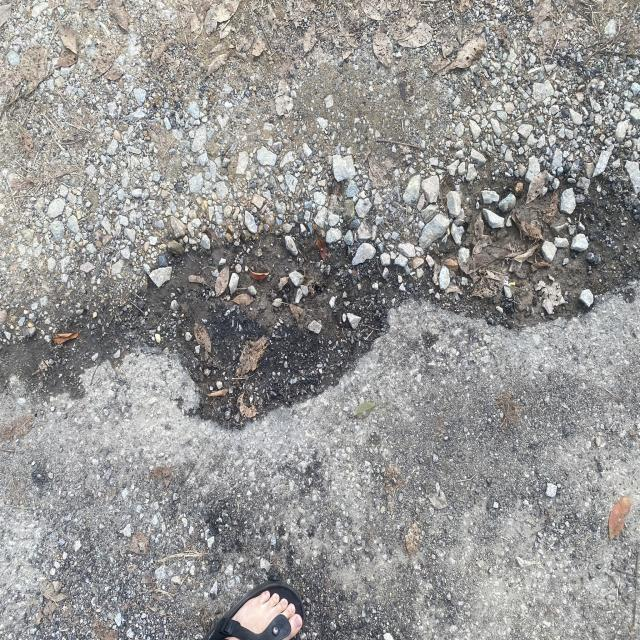Pothole: (24, 174, 640, 468)
